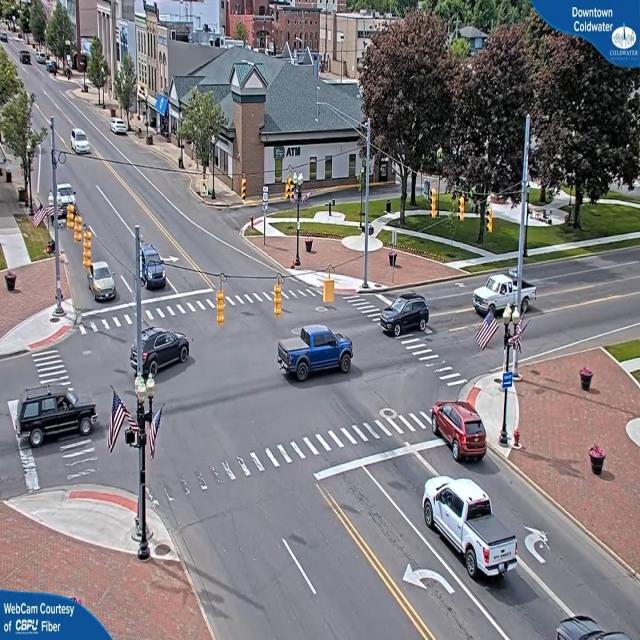car: (421, 476, 513, 584), (11, 390, 103, 448), (278, 325, 354, 384), (433, 400, 488, 463), (378, 294, 431, 339), (146, 330, 191, 376), (552, 616, 639, 639), (135, 243, 166, 288), (88, 262, 117, 300), (68, 129, 90, 157), (112, 121, 130, 138)
